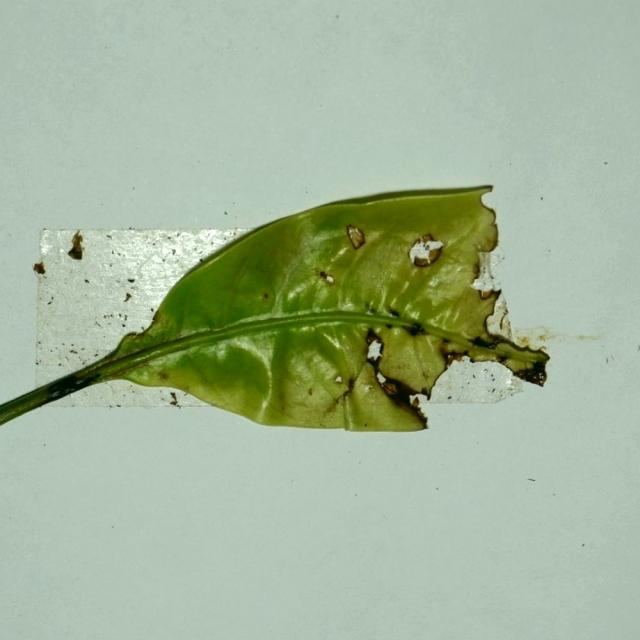Anthracnose: (410, 234, 442, 267), (521, 361, 548, 386), (345, 225, 367, 255), (67, 231, 84, 260), (316, 269, 334, 285), (382, 381, 398, 395), (33, 261, 46, 275), (169, 393, 179, 406), (421, 234, 433, 244), (335, 375, 342, 383)
Mango: (0, 186, 549, 435)
